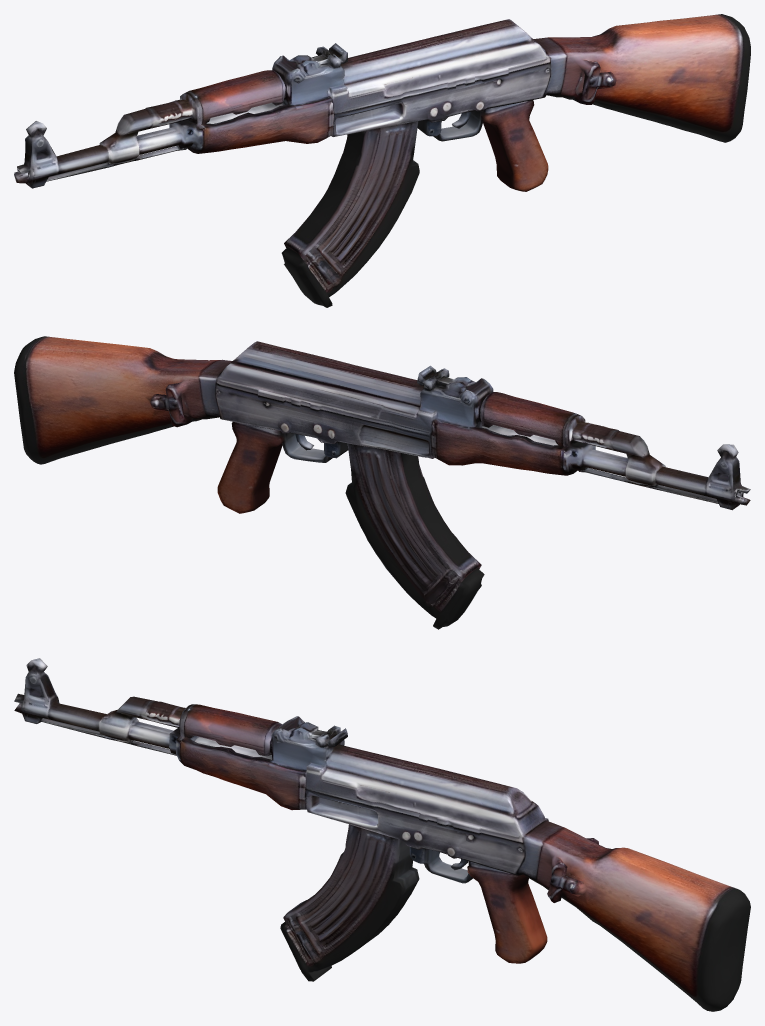
3 views of the same model, one above another, from view 1: azimuth 30°, elevation 25°; view 2: azimuth 150°, elevation 25°; view 3: azimuth 330°, elevation 25° (orthographic).
Parts seen in each view (by area): view 1: tripo_node_7860aaa9-5d52-48b8-a45f-e94457d563b1; view 2: tripo_node_7860aaa9-5d52-48b8-a45f-e94457d563b1; view 3: tripo_node_7860aaa9-5d52-48b8-a45f-e94457d563b1.
Part boxes in pixels (x1=…): tripo_node_7860aaa9-5d52-48b8-a45f-e94457d563b1: x1=14, y1=14, x2=750, y2=307; tripo_node_7860aaa9-5d52-48b8-a45f-e94457d563b1: x1=14, y1=336, x2=750, y2=629; tripo_node_7860aaa9-5d52-48b8-a45f-e94457d563b1: x1=14, y1=658, x2=750, y2=1011.
Size of the model in its own units: 1 by 0.329 by 0.0945.
1 material, 1 textured.
